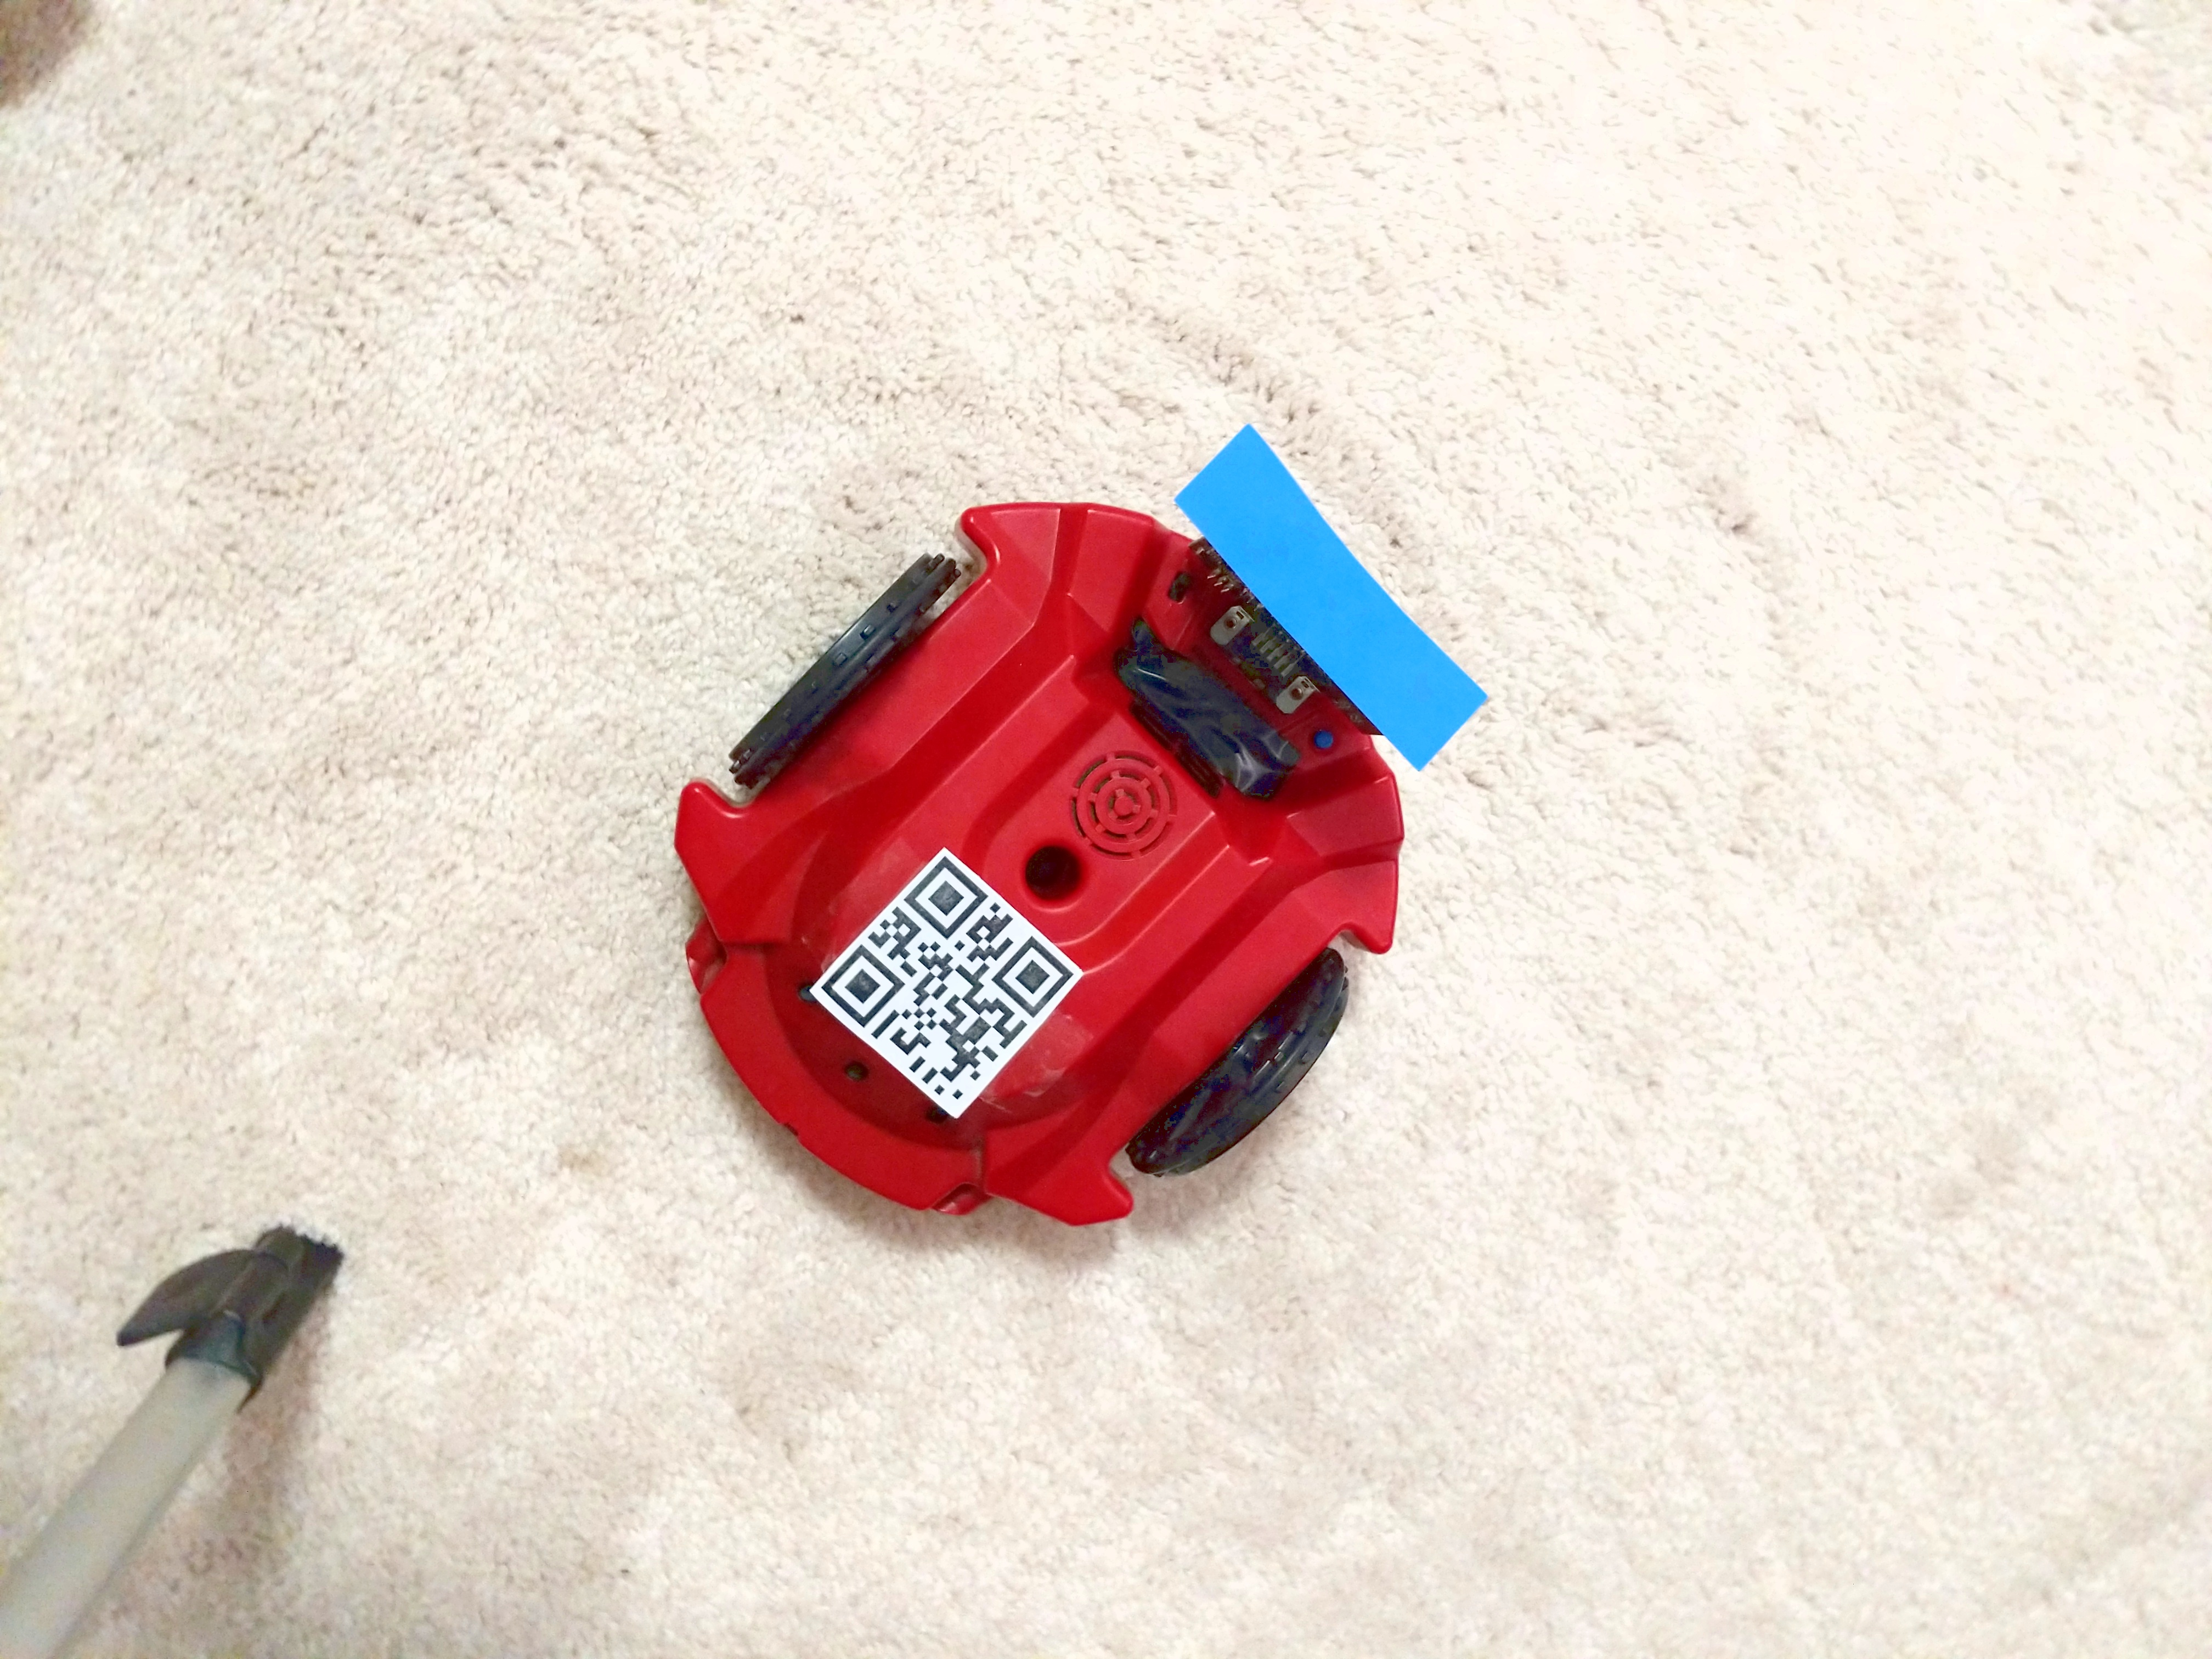board: (702, 877, 1055, 1279)
chassis: (709, 408, 1555, 1248)
